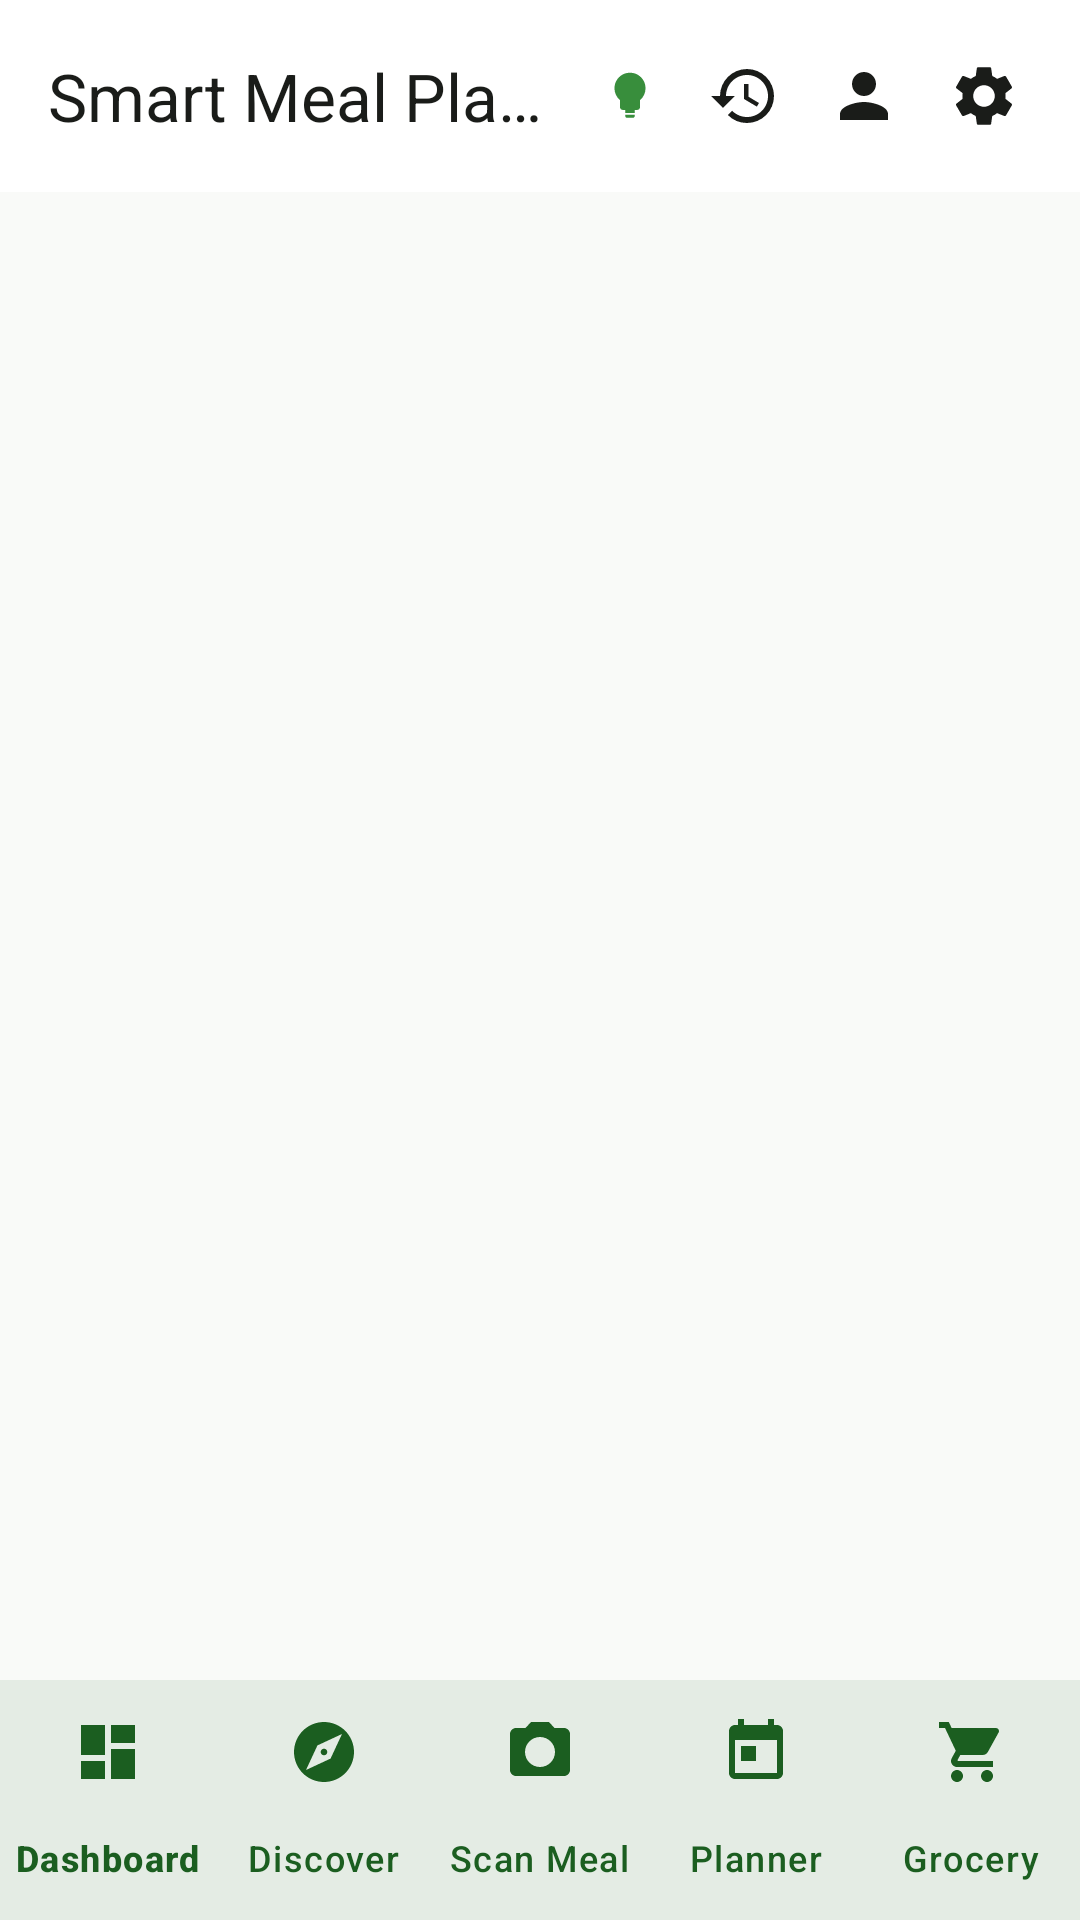

Screen size 1080 × 1920. Icon name, then its box in pixels as Rect(x1, y1, x2, y2):
History: Rect(711, 69, 774, 123)
Profile: Rect(840, 72, 888, 120)
Settings: Rect(956, 67, 1012, 125)
